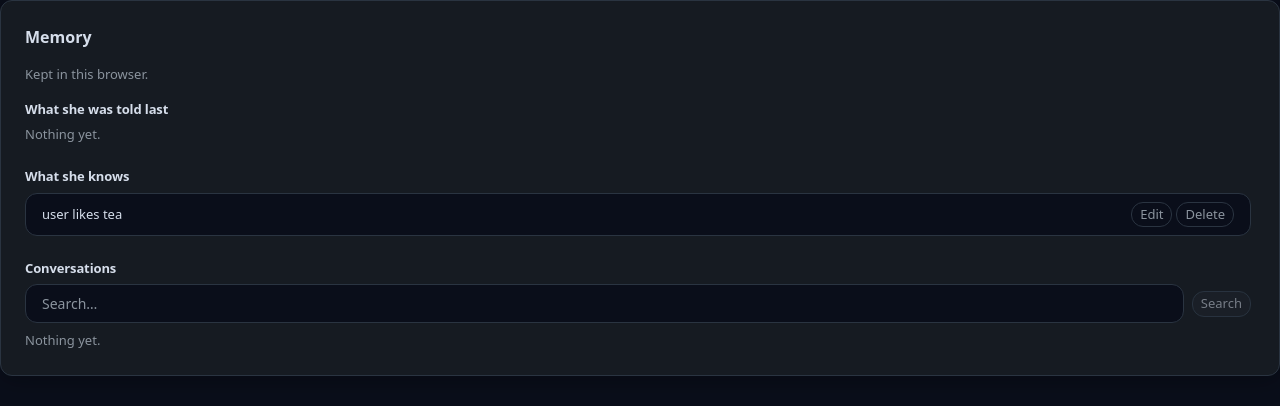
MemoryPanel (P4-T05) › edits a fact: Save writes the new object through the kernel
Check: the text "user likes tea" is shown, box [42, 204, 122, 224]
Click the button "Edit".
click(1152, 214)  # box [1131, 202, 1172, 227]
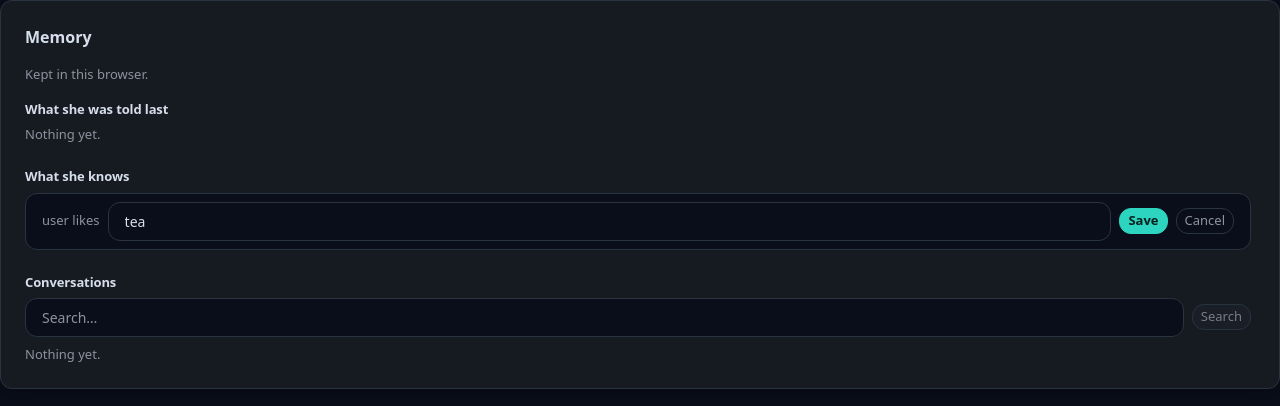
Replace the text in the field named "Edit user likes" with "coffee" at [610, 221], box [108, 202, 1111, 240]
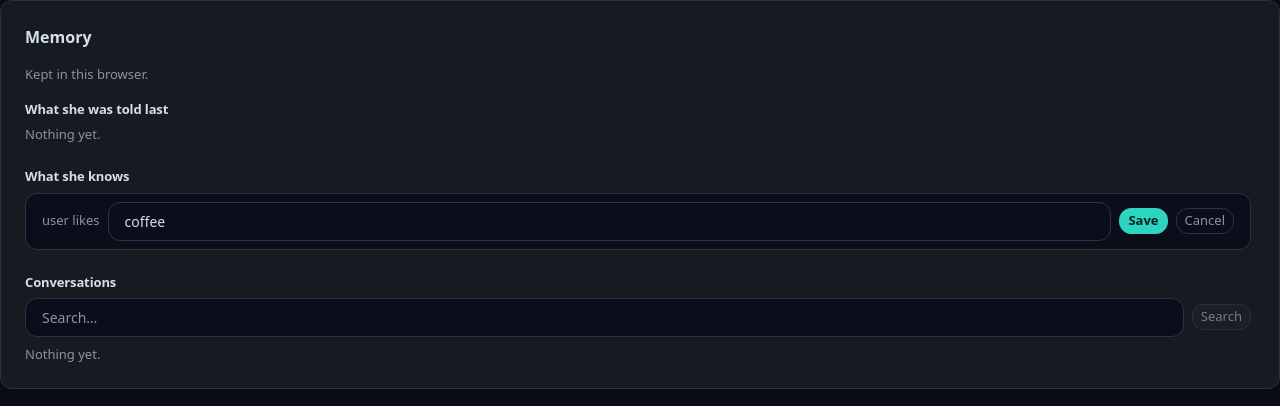
Click the button "Save".
click(1143, 221)  # box [1119, 208, 1168, 234]
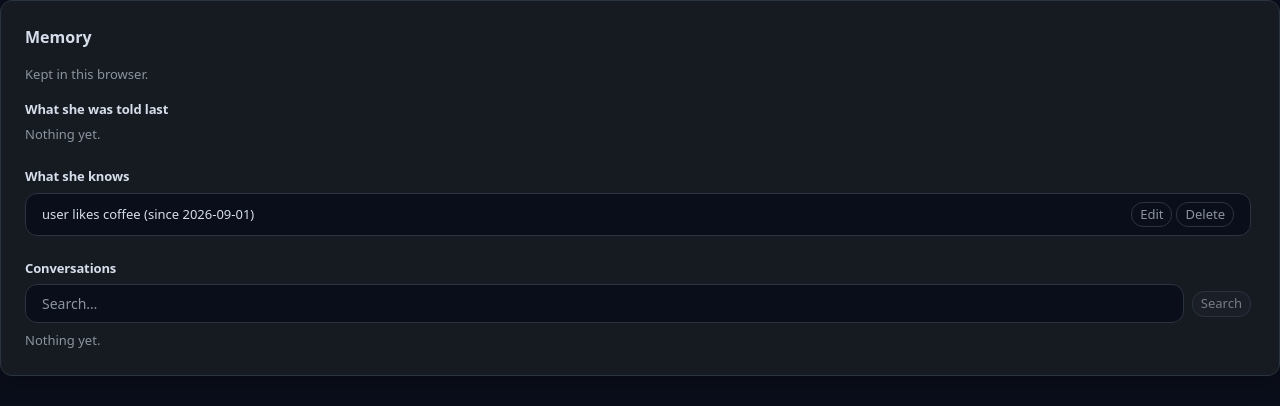
Check: the text "user likes coffee (since 2026-09-01)" is shown, box [42, 204, 254, 224]
